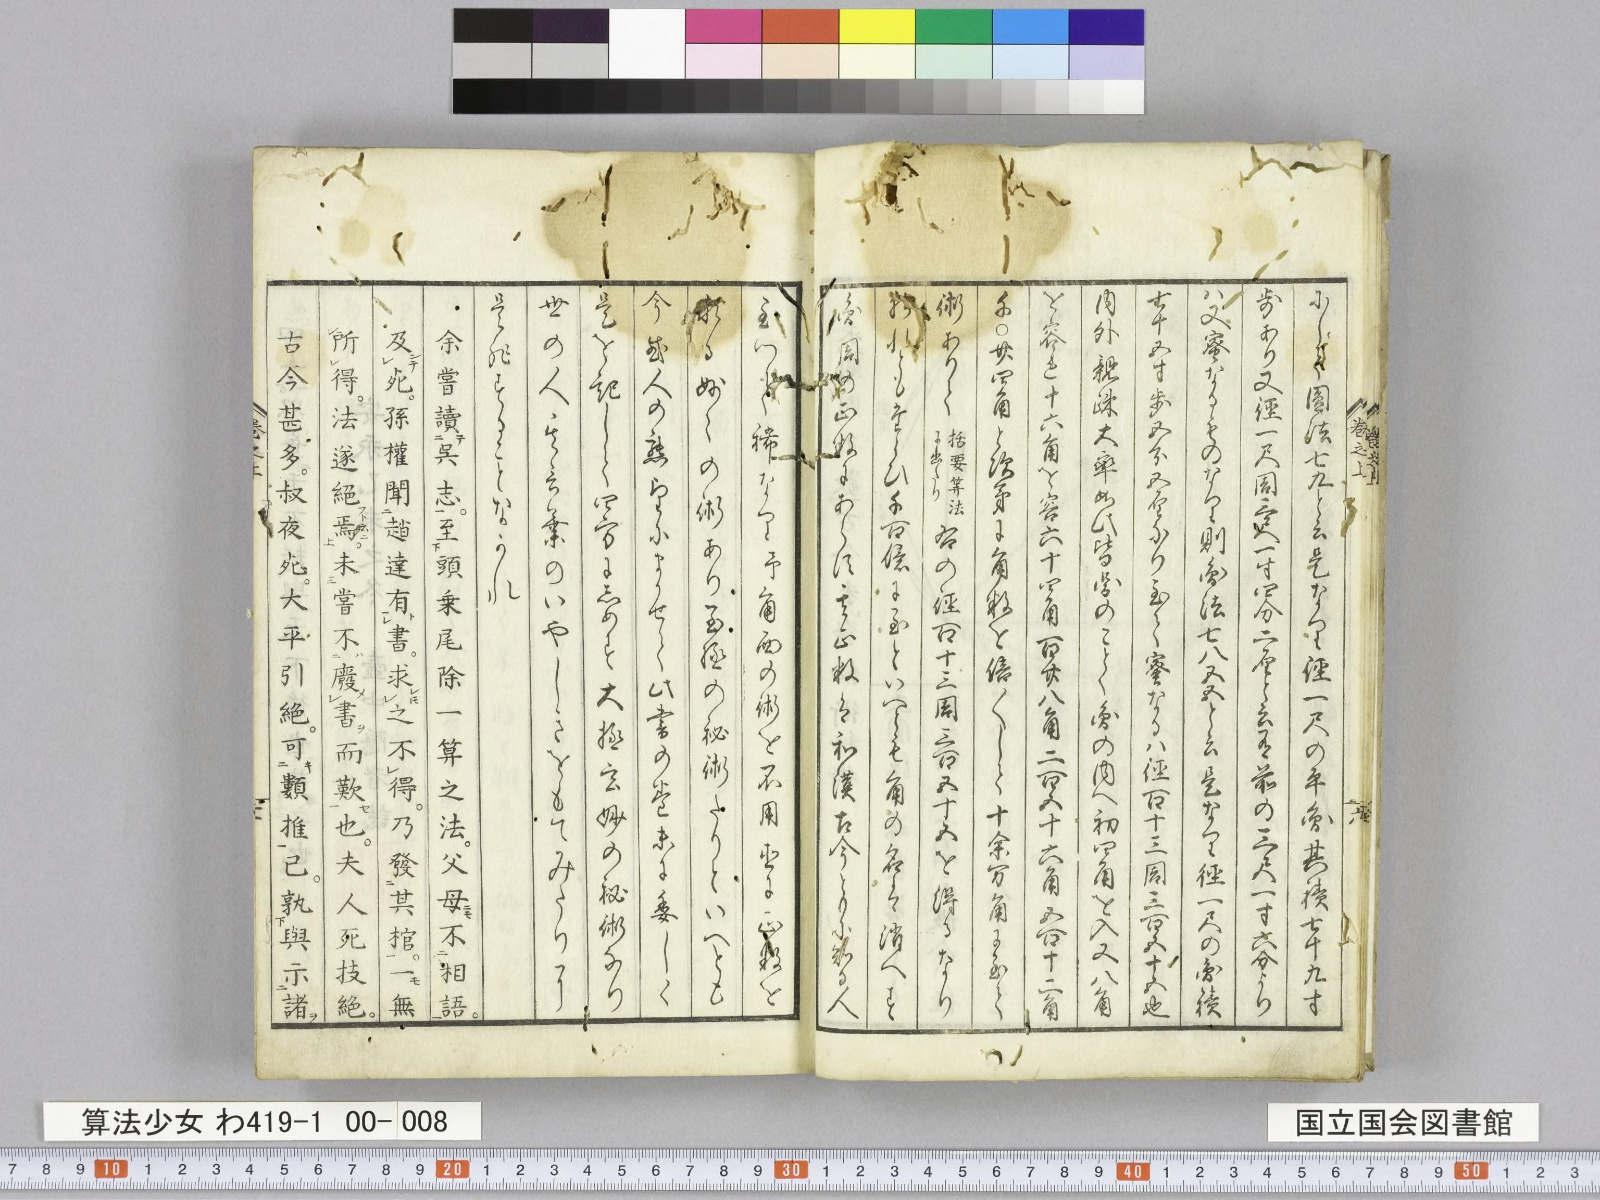1_overall: (254, 142, 1388, 1082)
2_handwritten: (593, 292, 625, 1013), (1143, 287, 1170, 1018), (879, 292, 907, 1022), (1196, 290, 1223, 1016), (645, 291, 673, 1003), (757, 295, 784, 1006), (546, 296, 572, 1006), (1094, 286, 1119, 1018), (703, 297, 727, 1006), (1043, 291, 1066, 1022), (1255, 287, 1277, 1016), (831, 290, 854, 1016), (1306, 286, 1328, 1013), (991, 292, 1010, 1022), (934, 522, 959, 1017), (488, 292, 515, 608), (937, 289, 964, 418), (947, 426, 966, 519), (929, 429, 944, 502)
3_typography: (333, 326, 368, 1013), (278, 325, 311, 1018), (435, 337, 466, 1018), (384, 324, 414, 1018)
